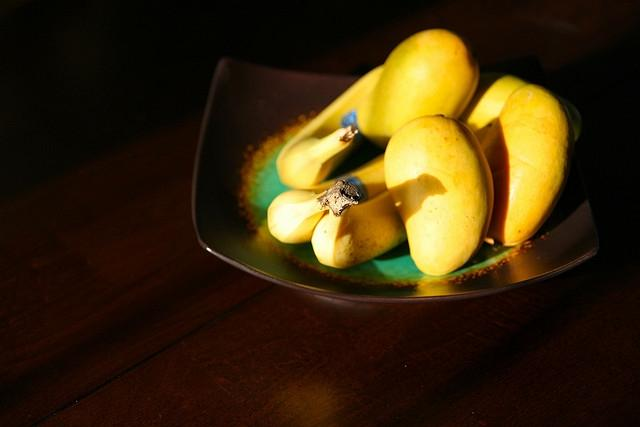banana: (274, 64, 388, 190), (267, 154, 387, 244), (310, 180, 408, 268)
